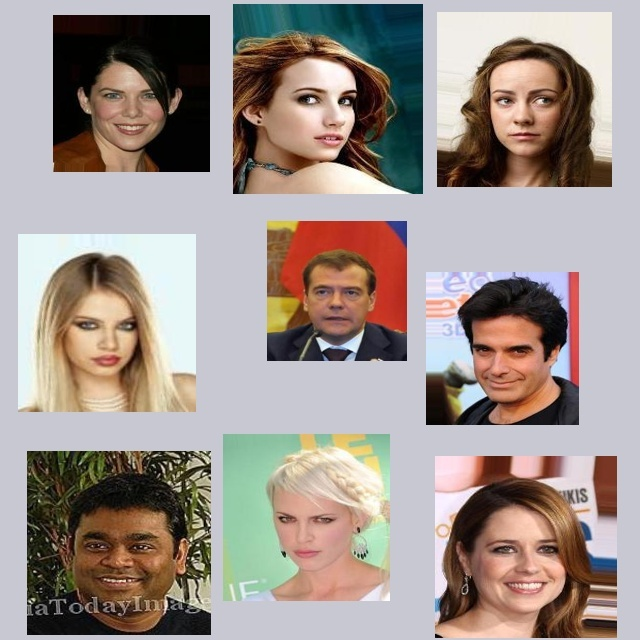celeb_10002: (18, 234, 196, 412)
celeb_2336: (426, 272, 579, 425)
celeb_2619: (267, 221, 407, 361)
celeb_2970: (233, 4, 423, 194)
celeb_4422: (437, 12, 612, 187)
celeb_4428: (435, 456, 617, 638)
celeb_5695: (53, 15, 210, 172)
celeb_7: (27, 451, 211, 635)
celeb_797: (223, 434, 390, 601)
